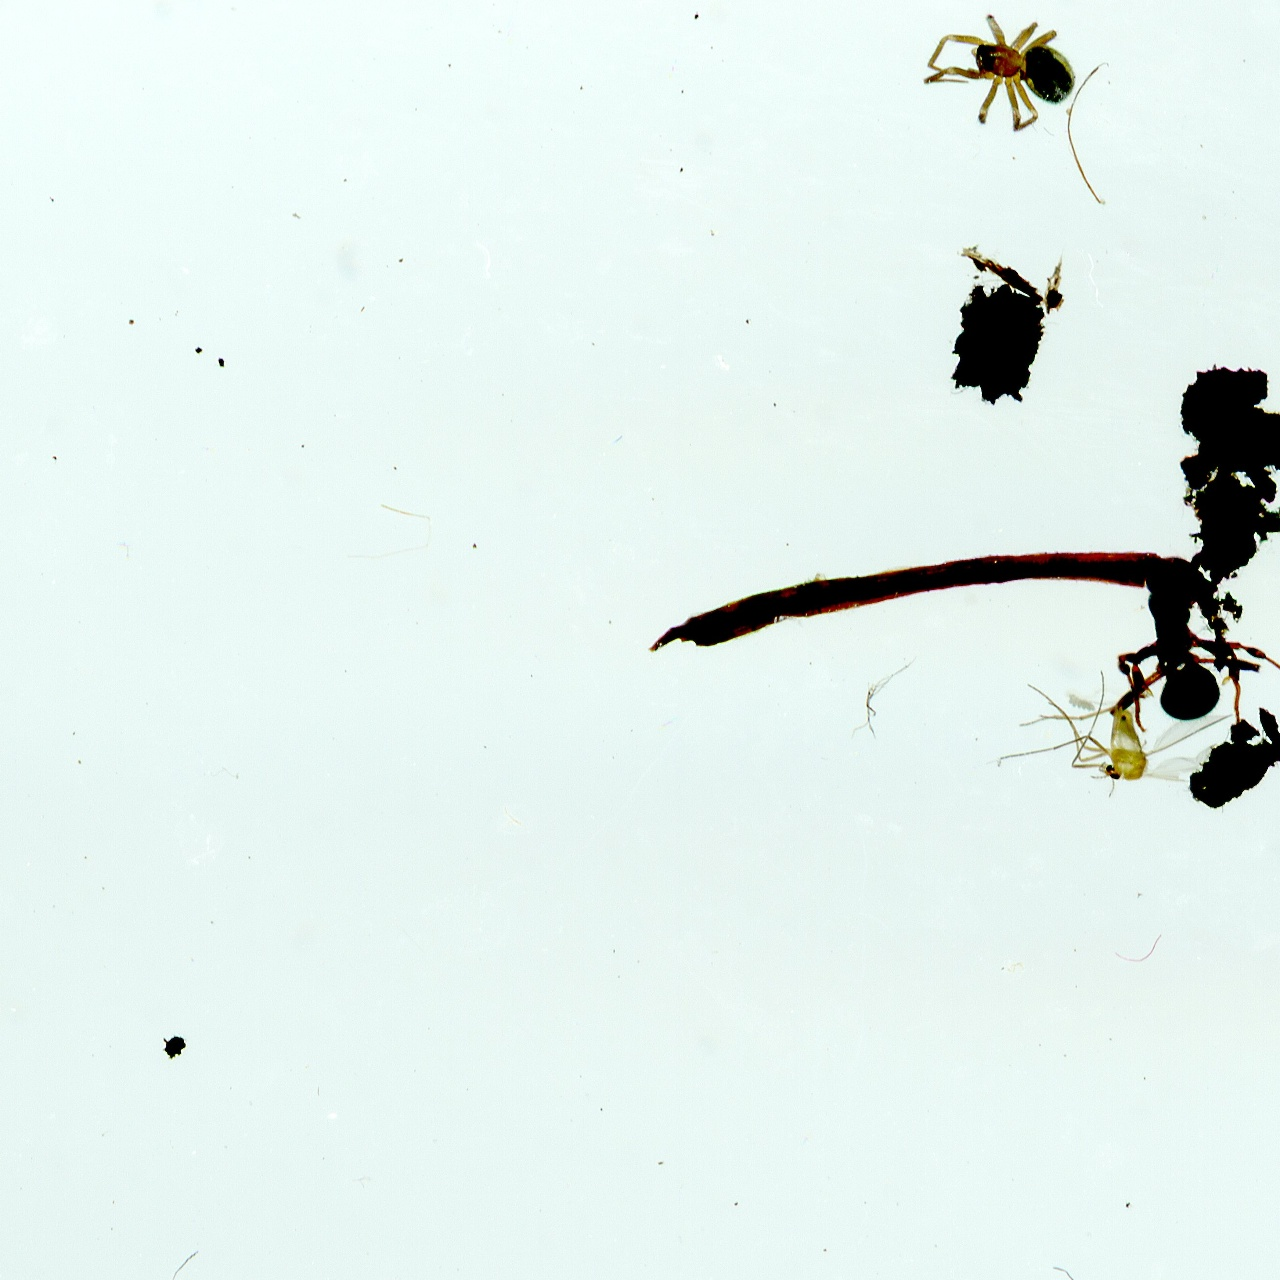arthropod: (986, 667, 1241, 801), (1108, 574, 1280, 737), (917, 12, 1082, 138)
